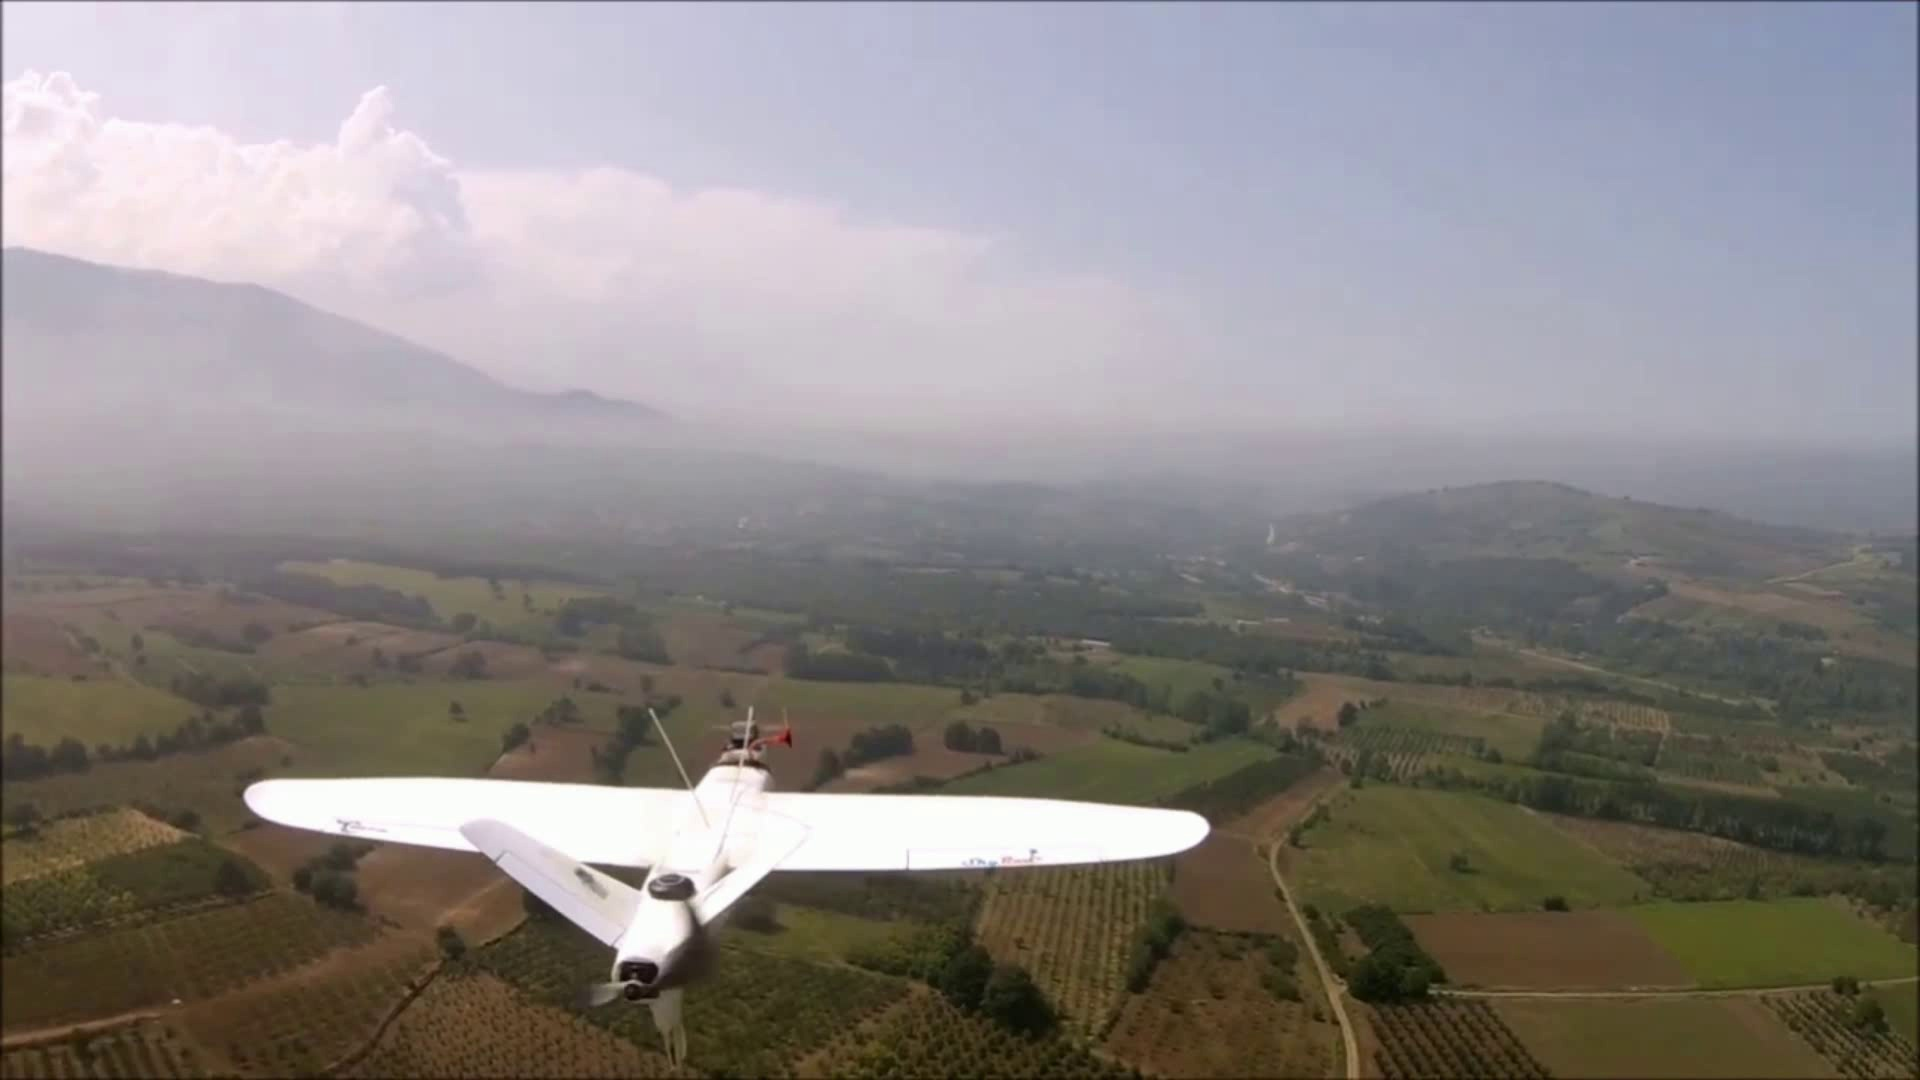airplane: (243, 723, 1209, 1054)
